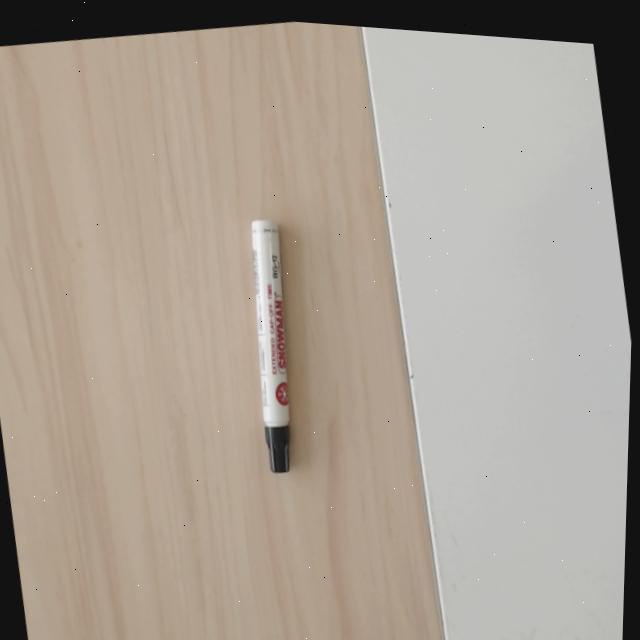Marker-Pen: (250, 217, 292, 474)
